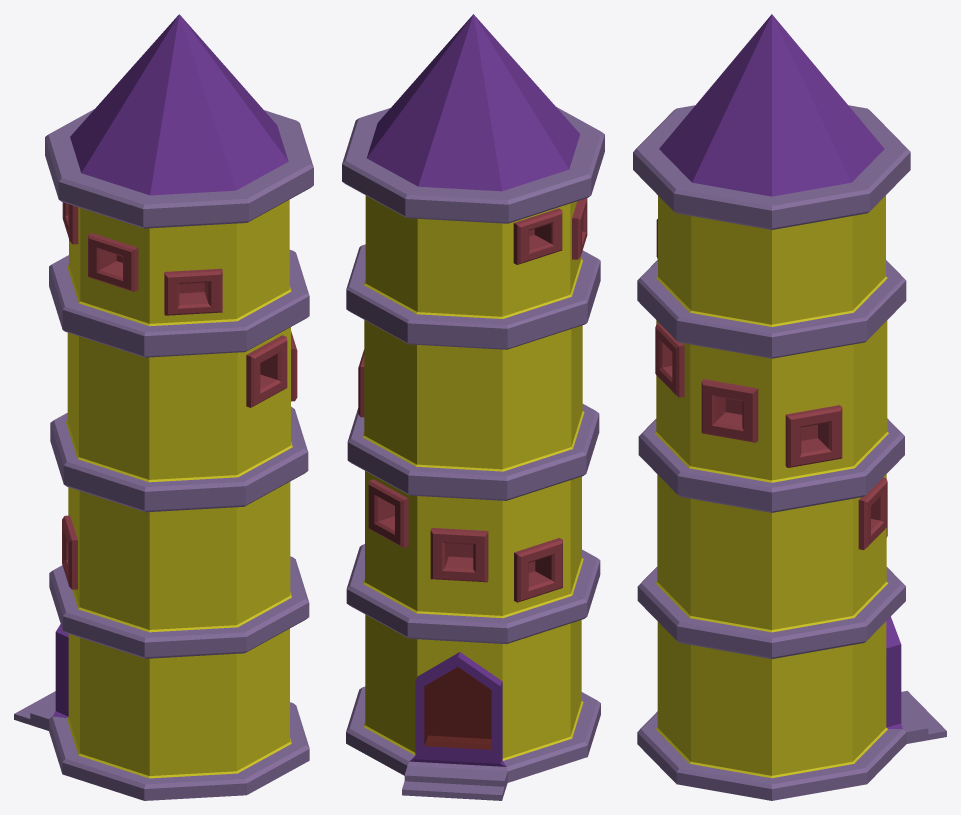
File: kale.fbx
The picture shows the model from 3 angles, left to right: view 1: azimuth 30°, elevation 25°; view 2: azimuth 150°, elevation 25°; view 3: azimuth 270°, elevation 25°; orthographic projection. The views are drawn at different scales.
Parts seen in each view (by area): view 1: Cylinder; view 2: Cylinder; view 3: Cylinder.
Part boxes in pixels (x1=…): Cylinder: x1=14, y1=14, x2=313, y2=800; Cylinder: x1=342, y1=14, x2=604, y2=800; Cylinder: x1=633, y1=14, x2=946, y2=800.
Bounding box in the file's own units: 911 × 2641 × 1030.
